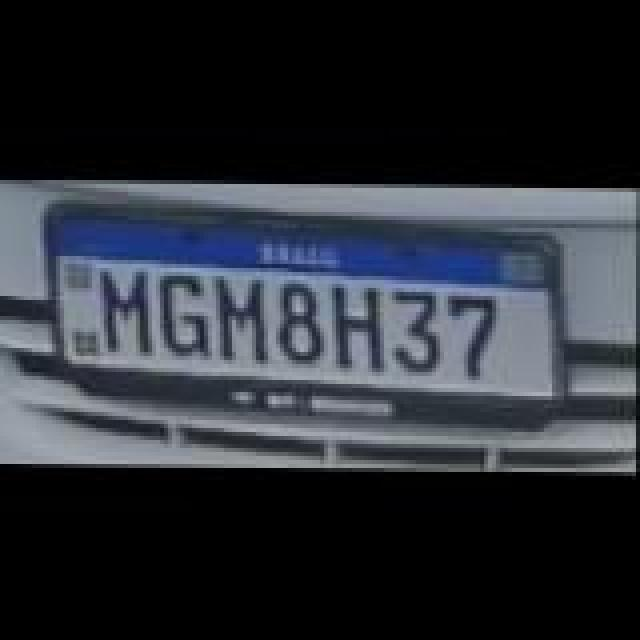3: (386, 286, 450, 370)
7: (446, 288, 510, 372)
8: (270, 278, 334, 362)
G: (152, 266, 220, 354)
H: (330, 280, 394, 368)
M: (98, 266, 162, 354), (210, 270, 274, 358)
